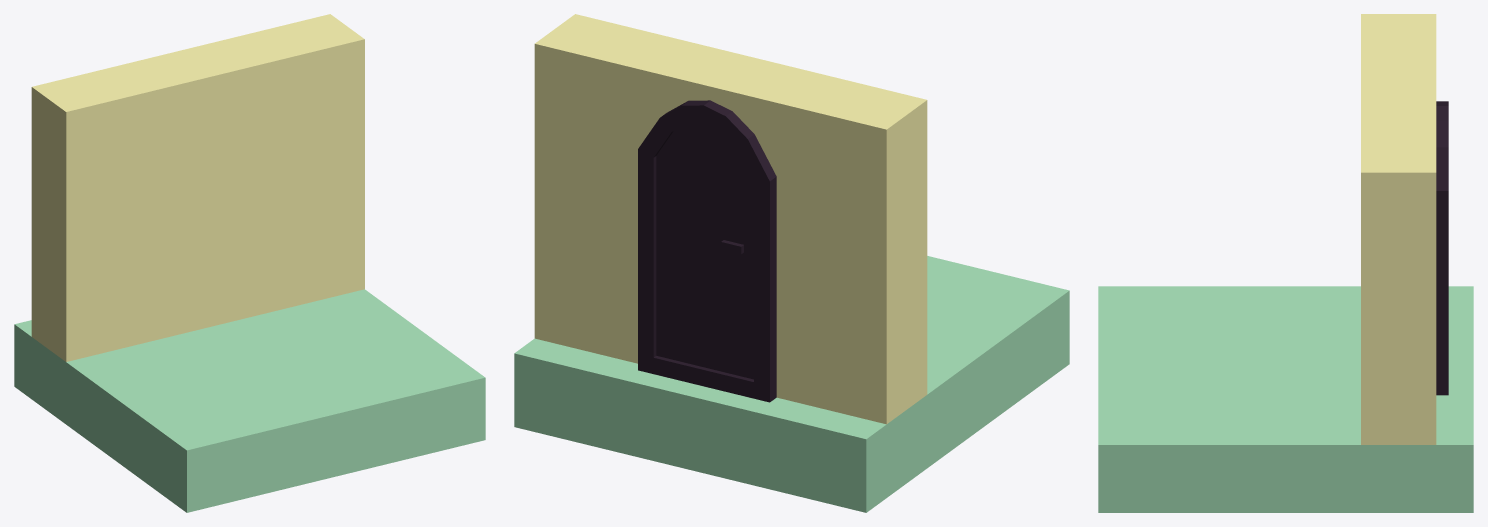
Rendered from DoorSingle.fbx.
3 views of the same model, side by side, from view 1: azimuth 30°, elevation 25°; view 2: azimuth 150°, elevation 25°; view 3: azimuth 270°, elevation 25° (orthographic). The views are drawn at different scales.
Parts seen in each view (by area): view 1: DoorSingle; view 2: DoorSingle; view 3: DoorSingle.
Boxes of the visible parts, box(x1,y1,x2,y2) form: DoorSingle: box(14, 14, 485, 512); DoorSingle: box(514, 14, 1069, 512); DoorSingle: box(1098, 14, 1473, 512).
Bounding box in the file's own units: 200 × 200 × 200.
